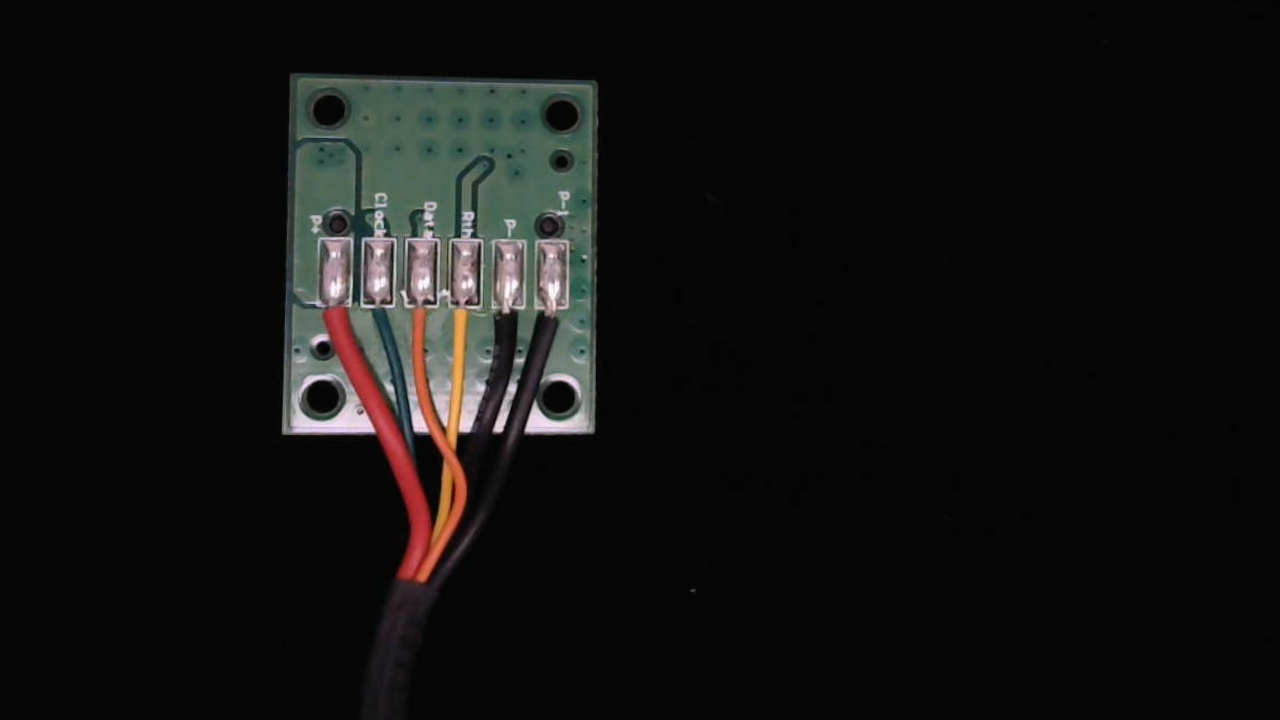Black: (485, 287, 528, 370)
Black1: (532, 288, 569, 354)
Green: (357, 288, 401, 355)
Orange: (401, 289, 438, 354)
Red: (316, 288, 355, 355)
Yellow: (443, 289, 483, 355)
